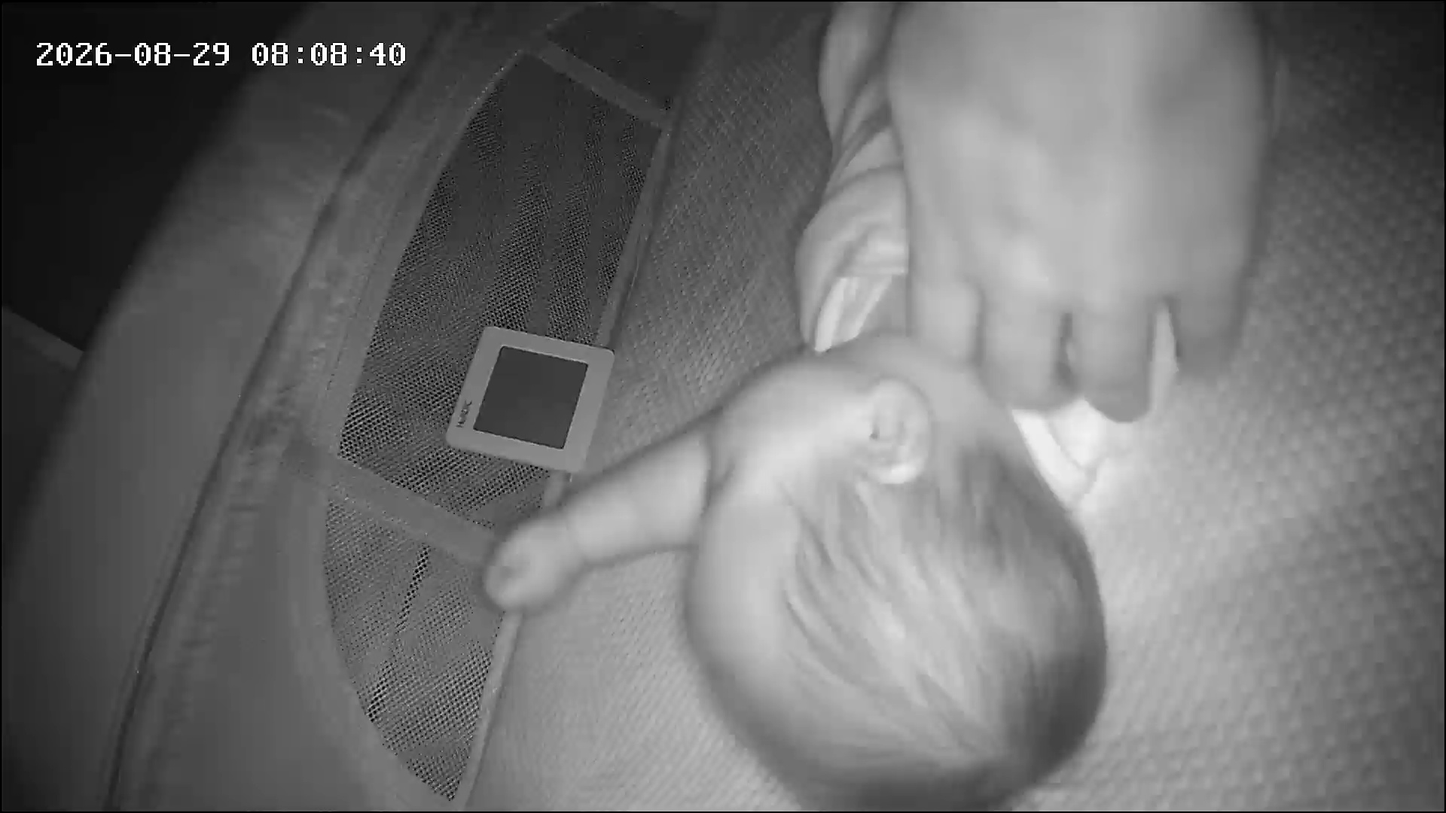baby: (202, 3, 1121, 810), (560, 2, 1166, 813)
baby_face: (679, 336, 1119, 812), (880, 1, 1286, 465)
